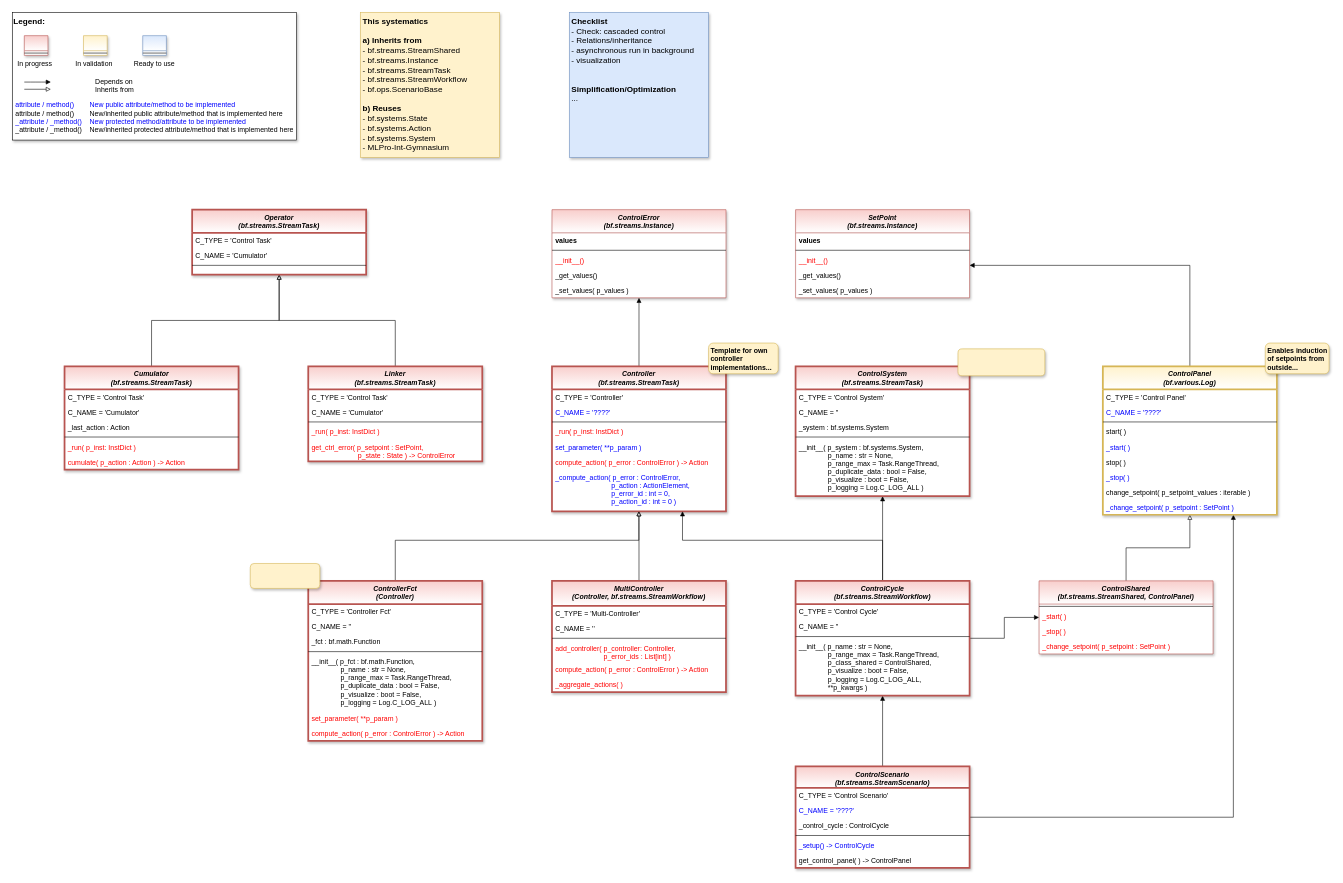
Some shapes in this 1343 by 883 pixel diagram are drawn without their labels. Each missing label, with the centre of its shape:
"Wraps an existing function object..." goes at pixel 285 576.
"Wraps an object of type bf.systems.System." goes at pixel 1001 363.
